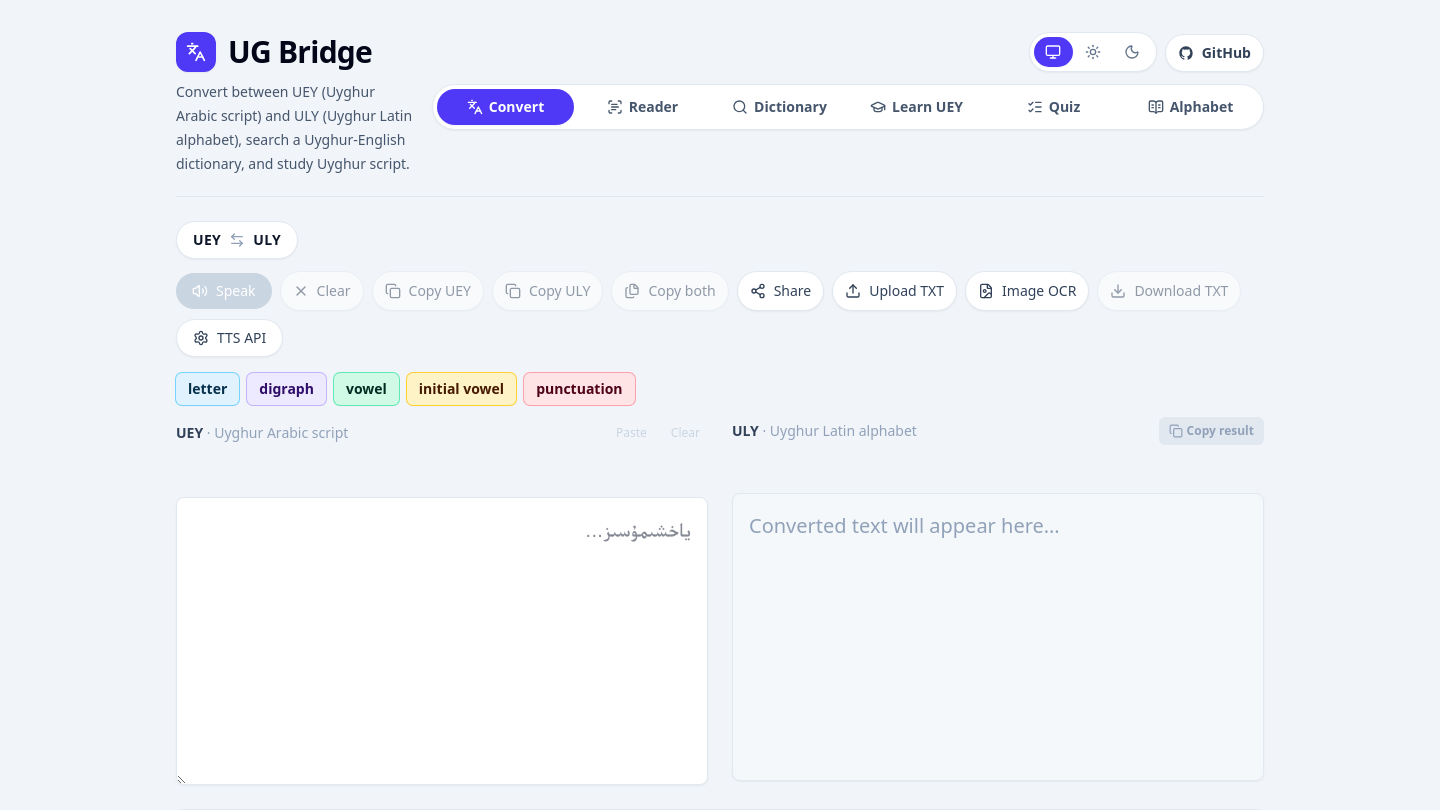
it: App conversion workflow › opens image OCR from the converter toolbar
Click the button "Image OCR": click(1027, 291) [965, 271, 1089, 311]
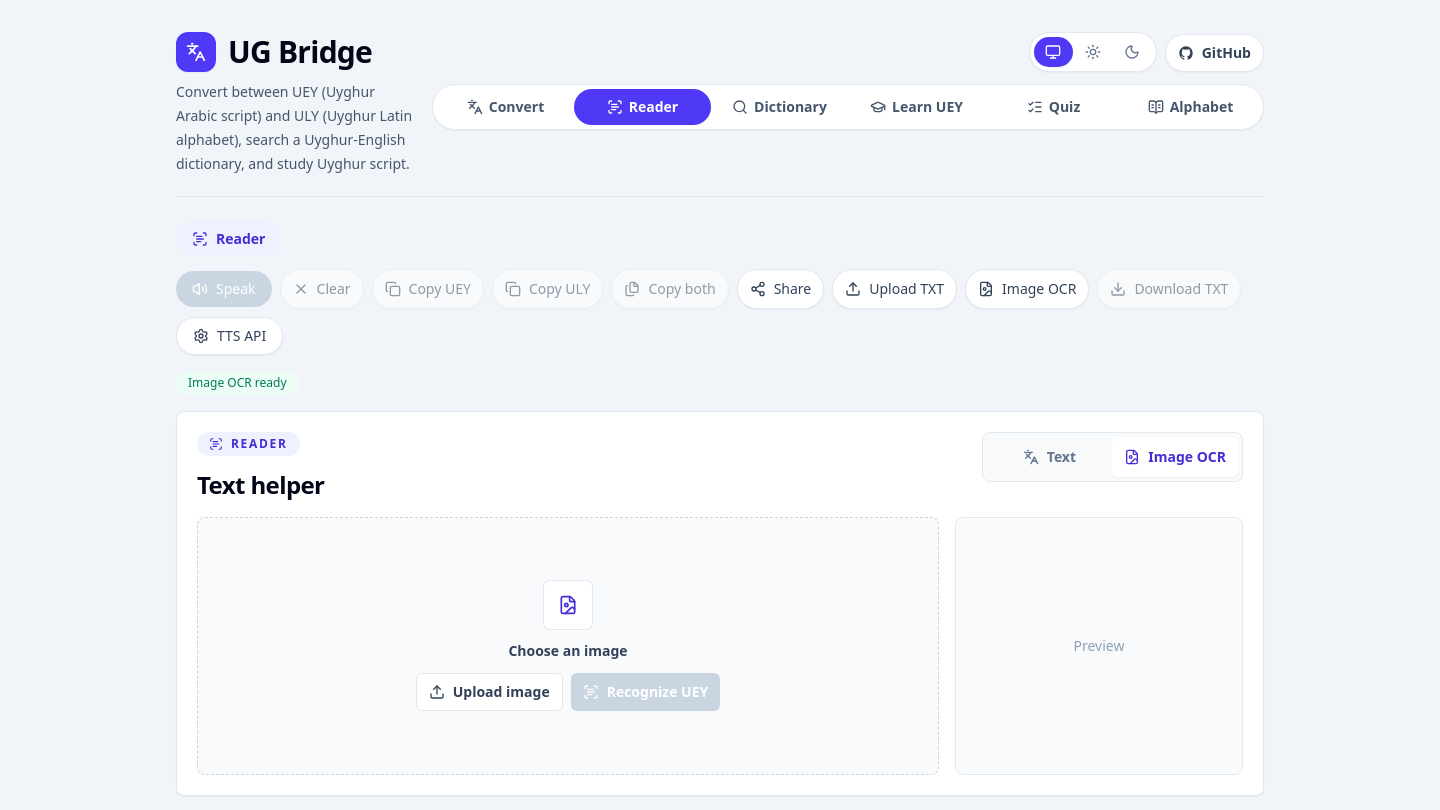
Result: the text "Image OCR ready" is shown at [176, 371, 298, 395]
Result: the button "Recognize UEY" is shown at [571, 673, 720, 711]
